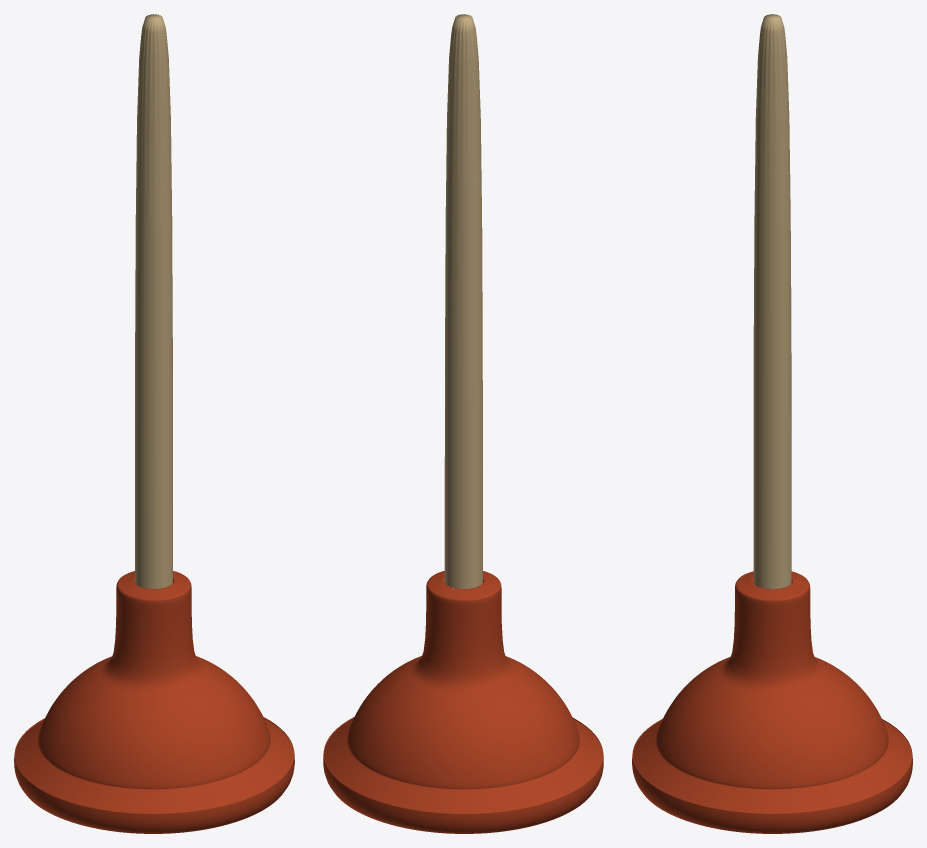
File: plunger model.fbx
3 renders of one model, left to right at view 1: azimuth 30°, elevation 25°; view 2: azimuth 150°, elevation 25°; view 3: azimuth 270°, elevation 25°, orthographic.
Parts seen in each view (by area): view 1: pSphere1; view 2: pSphere1; view 3: pSphere1.
Part boxes in pixels (x1,y1,x2,y2): pSphere1: (14, 14, 294, 833); pSphere1: (323, 14, 603, 833); pSphere1: (632, 14, 912, 833).
Size of the model in its own units: 17.51 by 52.46 by 17.51.
Materials: 1 (1 with a texture image).
